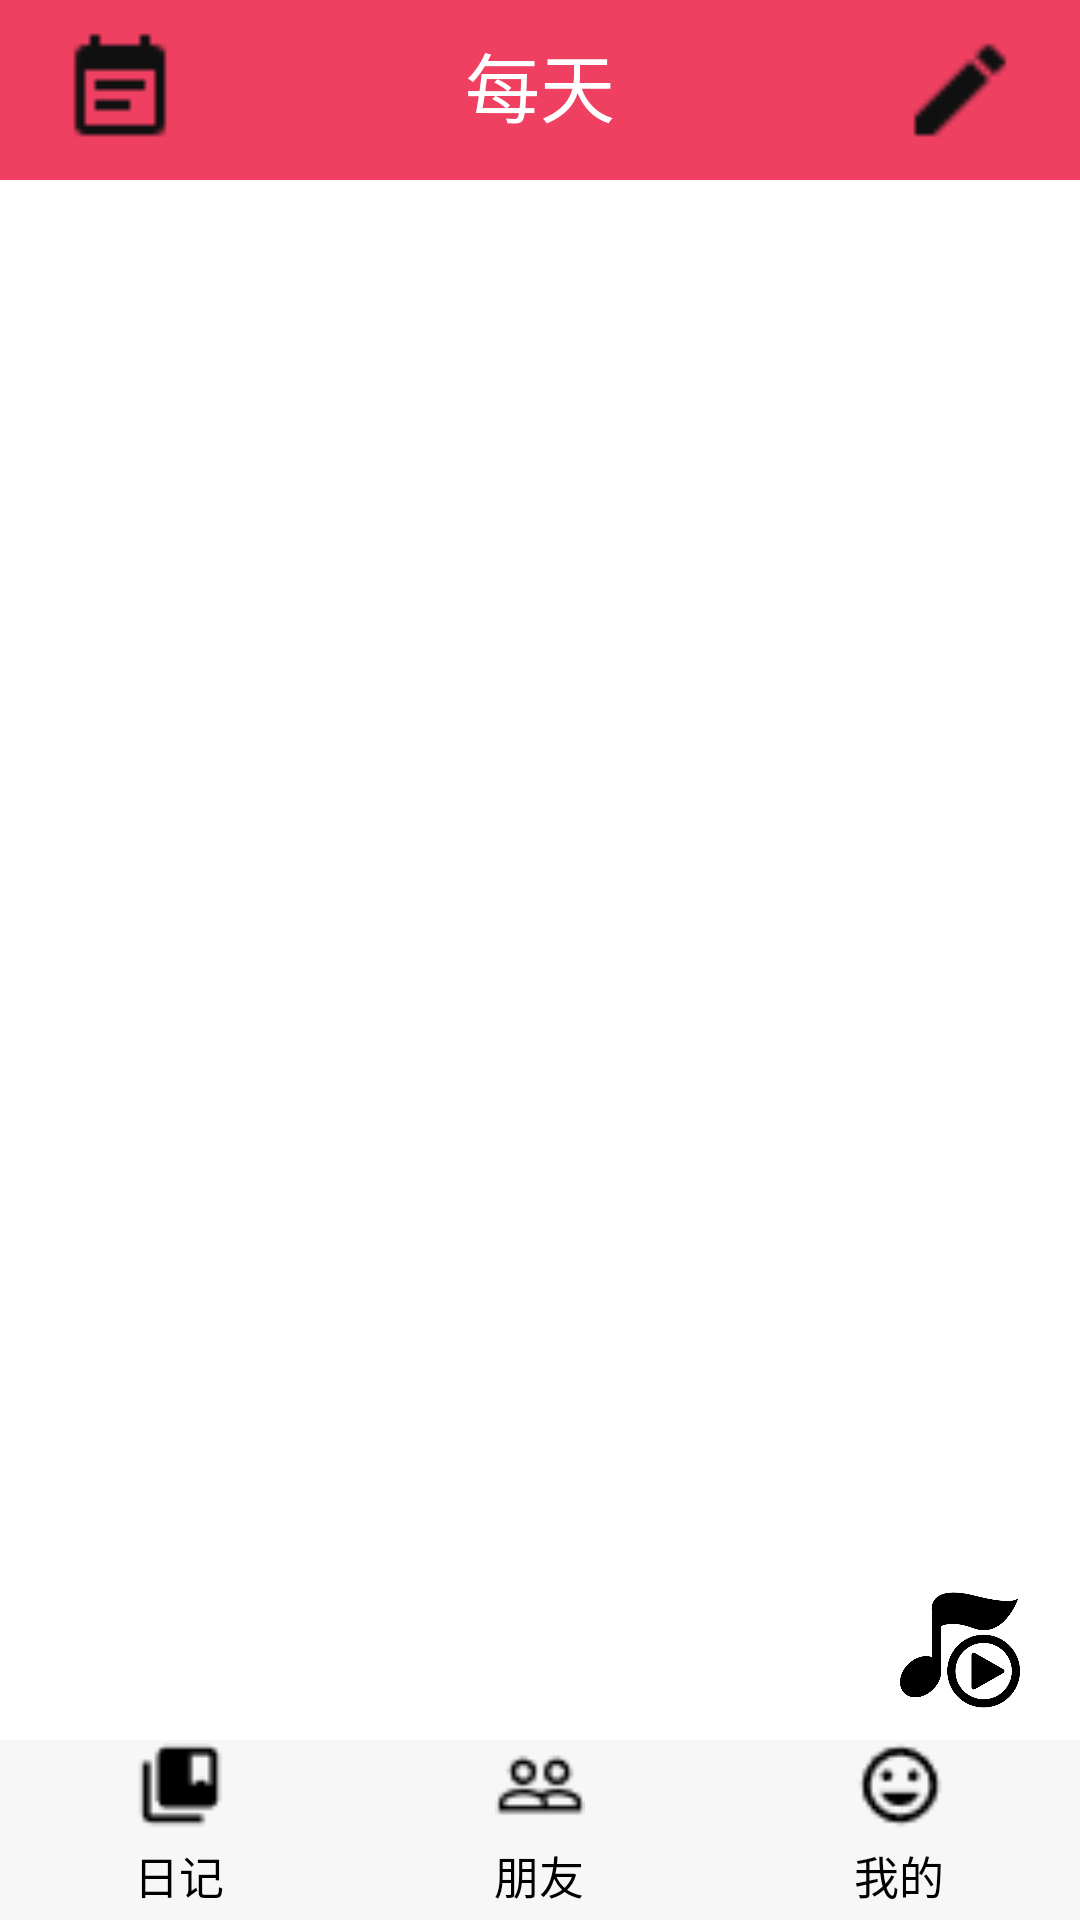

Point at icon controls on the screen. Image size 1080px×1920px, points as [x,y].
calendar: [120,85]
play: [960,1650]
write: [960,90]
